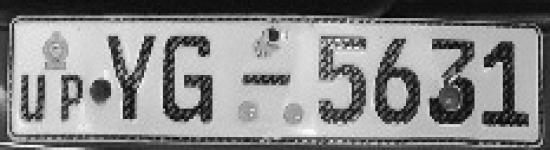-: (237, 67, 293, 93)
1: (479, 35, 532, 132)
3: (422, 33, 480, 132)
5: (314, 27, 372, 128)
6: (372, 32, 422, 134)
G: (158, 30, 220, 131)
P: (54, 71, 85, 125)
U: (16, 68, 50, 129)
Y: (102, 31, 158, 126)
